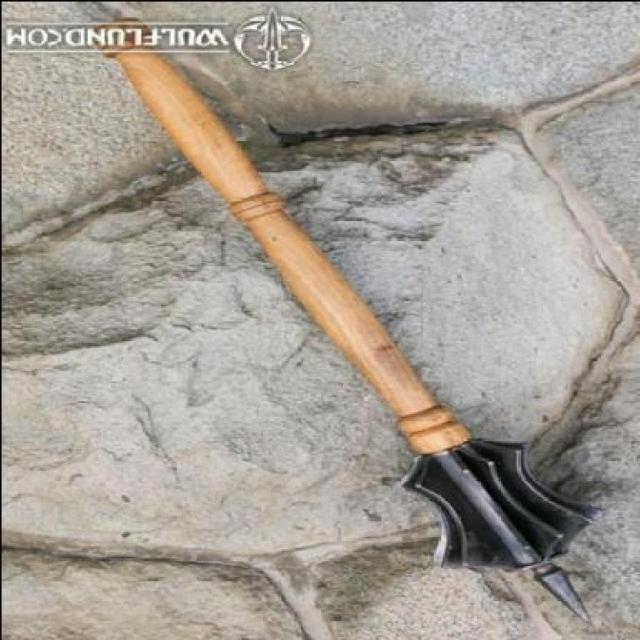weapon: (83, 6, 592, 624)
